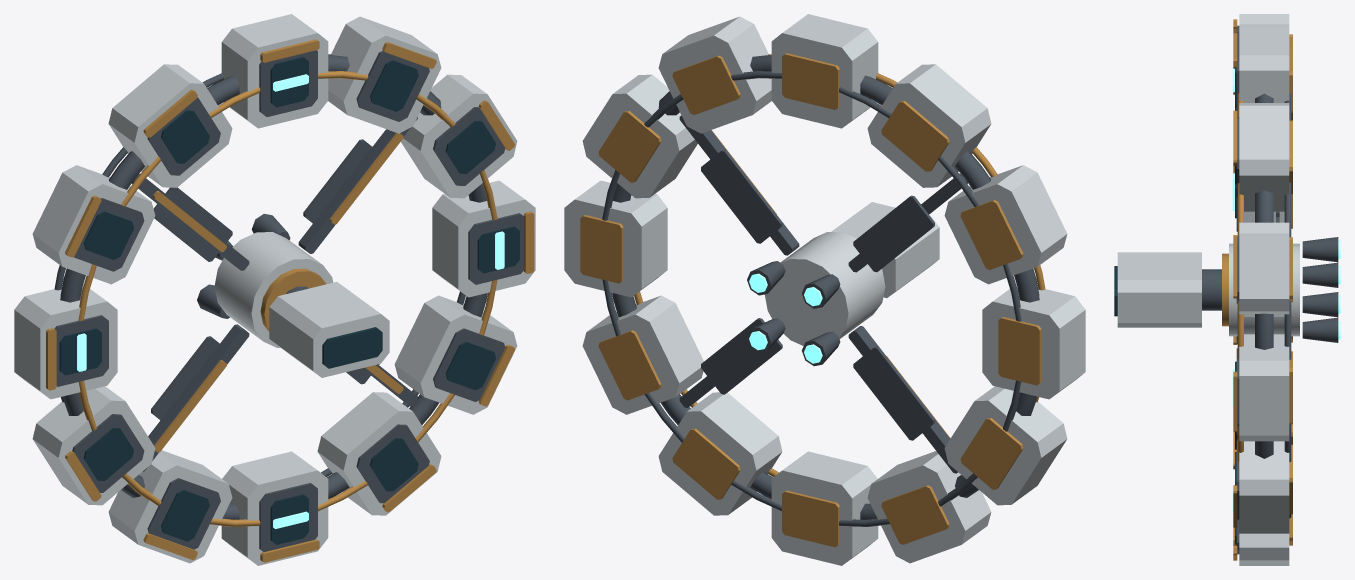
Rendered from interstellar-craft.glb.
3 renders of one model, left to right at view 1: azimuth 30°, elevation 25°; view 2: azimuth 150°, elevation 25°; view 3: azimuth 270°, elevation 25°, orthographic. The views are drawn at different scales.
Visible parts, largest first — view 1: SurveyCraft; view 2: SurveyCraft; view 3: SurveyCraft.
Boxes of the visible parts, left/top/right/bottom form: SurveyCraft: left=14, top=14, right=535, bottom=565; SurveyCraft: left=564, top=14, right=1085, bottom=565; SurveyCraft: left=1114, top=14, right=1340, bottom=565.
Bounding box in the file's own units: 8.13 × 8.13 × 3.35.
